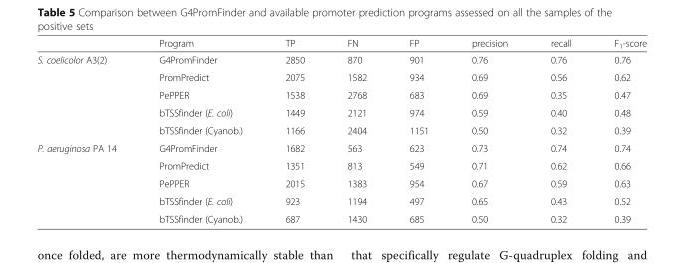table: (36, 37, 646, 224)
table column: (137, 37, 263, 224), (36, 37, 137, 224), (449, 37, 528, 224), (528, 37, 592, 224), (263, 37, 325, 224), (325, 37, 387, 224), (387, 37, 449, 224), (592, 37, 646, 224)
table column header: (36, 37, 646, 51)
table row: (36, 85, 646, 103), (36, 103, 646, 121), (36, 138, 646, 156), (36, 156, 646, 174), (36, 174, 646, 192), (36, 51, 646, 68), (36, 68, 646, 85), (36, 121, 646, 138), (36, 192, 646, 209), (36, 209, 646, 224), (36, 37, 646, 51)
table spanning cell: (36, 51, 137, 138), (36, 138, 137, 224)
